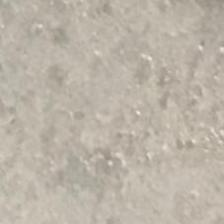Non_Crack: (19, 20, 206, 198)
